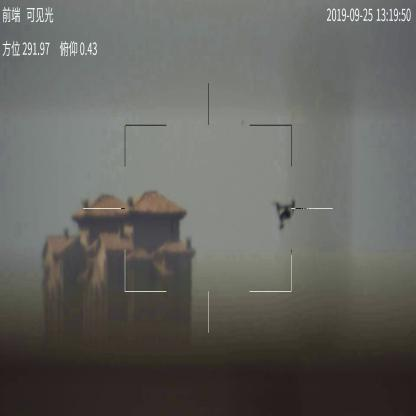uav: (272, 198, 298, 230)
